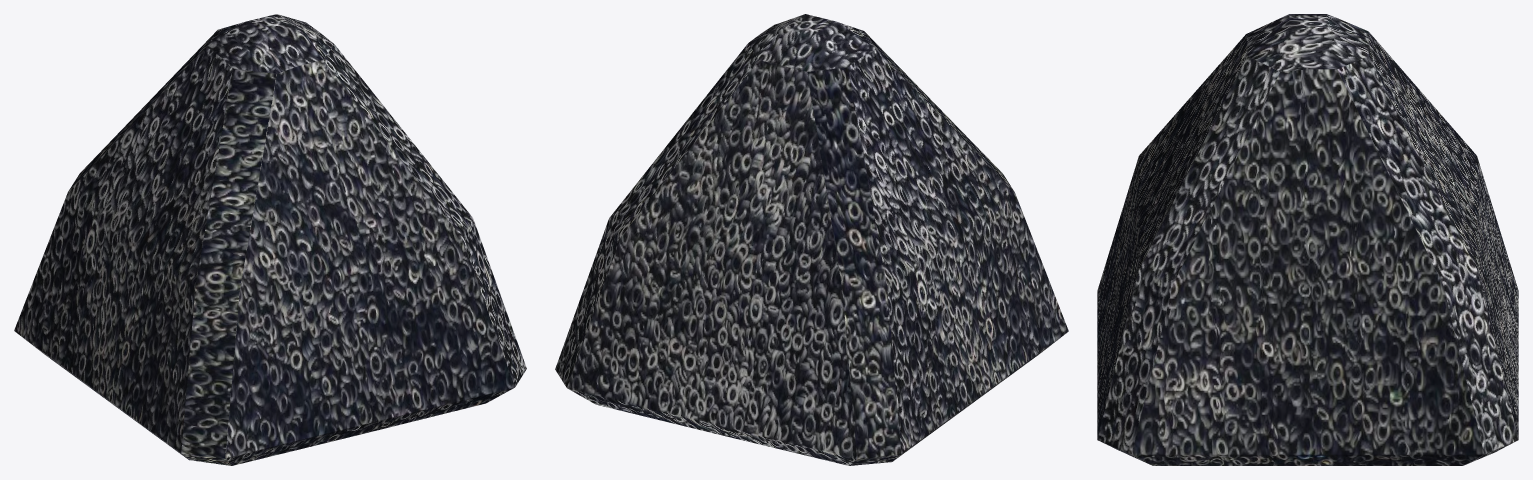
File: TirePile 1.fbx
3 renders of one model, left to right at view 1: azimuth 30°, elevation 25°; view 2: azimuth 150°, elevation 25°; view 3: azimuth 270°, elevation 25°, orthographic. The views are drawn at different scales.
Parts seen in each view (by area): view 1: pCube206; view 2: pCube206; view 3: pCube206.
Part boxes in pixels (box(x1,y1,x2,y2)): pCube206: box(14, 14, 526, 465); pCube206: box(555, 14, 1068, 465); pCube206: box(1097, 14, 1518, 465).
Size of the model in its own units: 9.86 by 9.86 by 9.86.
